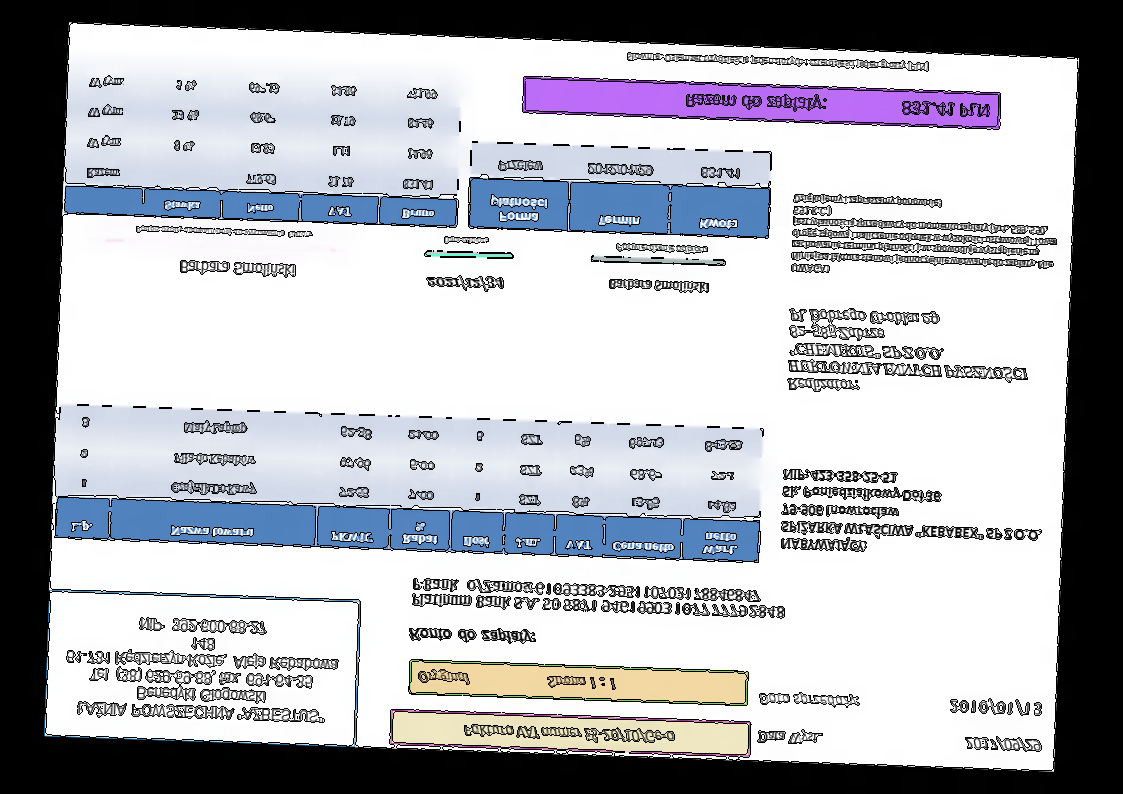Table: (54, 403, 764, 563), (63, 63, 463, 229), (467, 140, 773, 240)
TextBox: (62, 612, 342, 729), (779, 466, 1046, 560), (790, 191, 1061, 283), (785, 306, 1032, 402), (410, 575, 789, 622), (683, 89, 992, 121), (623, 48, 932, 74), (415, 667, 619, 693), (461, 722, 677, 746), (134, 223, 315, 242), (407, 623, 539, 648), (178, 258, 297, 281), (756, 689, 861, 711), (948, 695, 1042, 718), (606, 277, 711, 295), (425, 271, 506, 294), (962, 734, 1042, 755), (755, 726, 824, 747), (614, 241, 708, 256), (442, 235, 490, 247)
